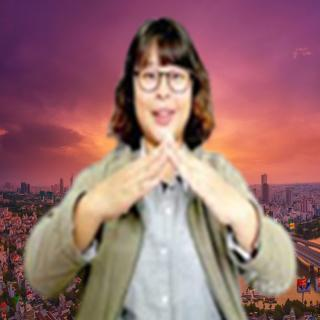HOME: (96, 130, 243, 227)
